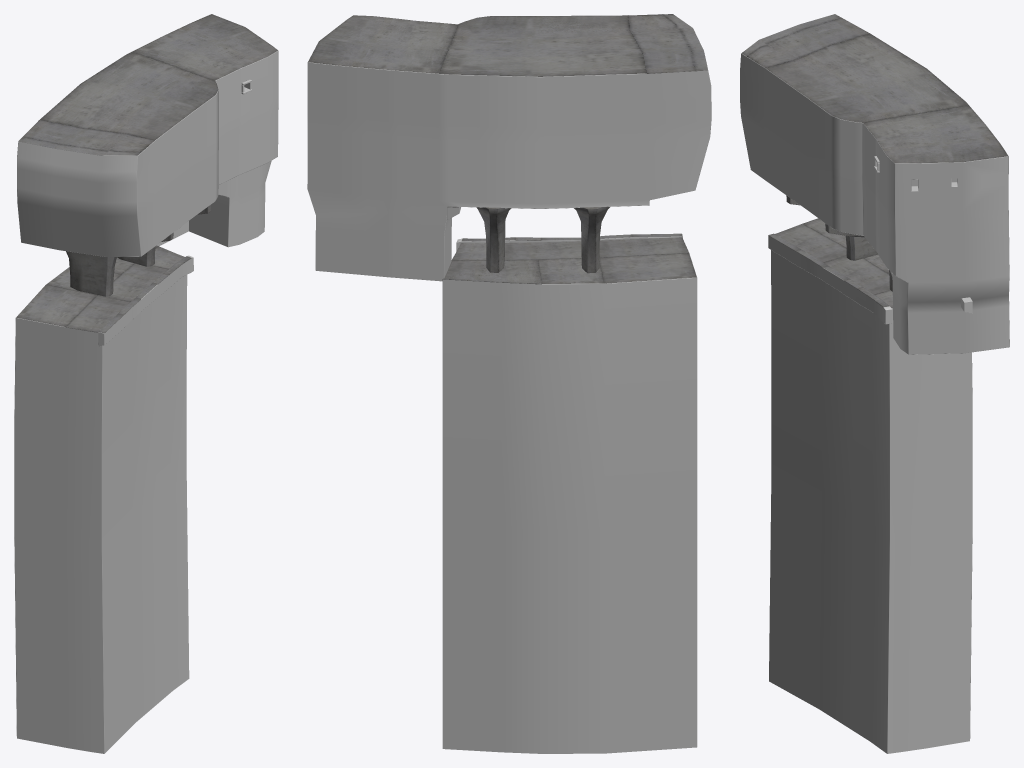
3 renders of one model, left to right at view 1: azimuth 30°, elevation 25°; view 2: azimuth 150°, elevation 25°; view 3: azimuth 270°, elevation 25°, orthographic. The views are drawn at different scales.
Visible parts, largest first — view 1: Cube.042; view 2: Cube.042; view 3: Cube.042.
Part boxes in pixels (left/top/right/bottom): Cube.042: left=14, top=14, right=278, bottom=753; Cube.042: left=307, top=14, right=711, bottom=753; Cube.042: left=740, top=14, right=1009, bottom=753.
Size of the model in its own units: 3397 by 6725 by 2575.
